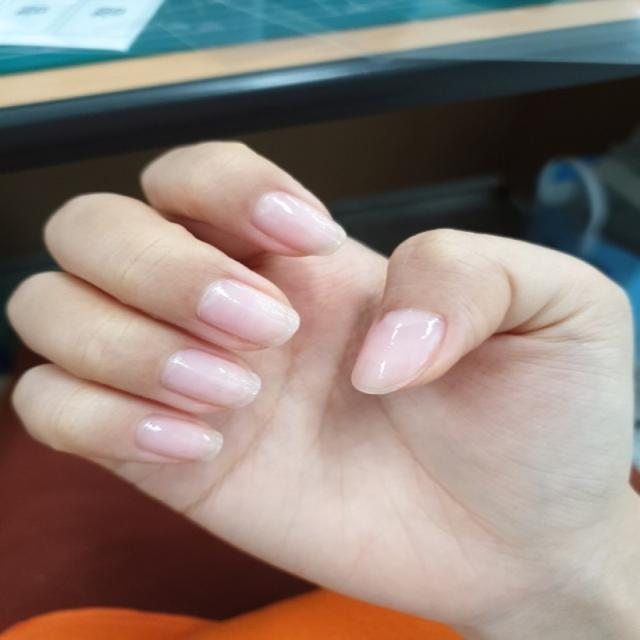Nail: (353, 310, 445, 394), (198, 280, 300, 346), (252, 191, 347, 256), (162, 349, 260, 407), (135, 415, 223, 459)
